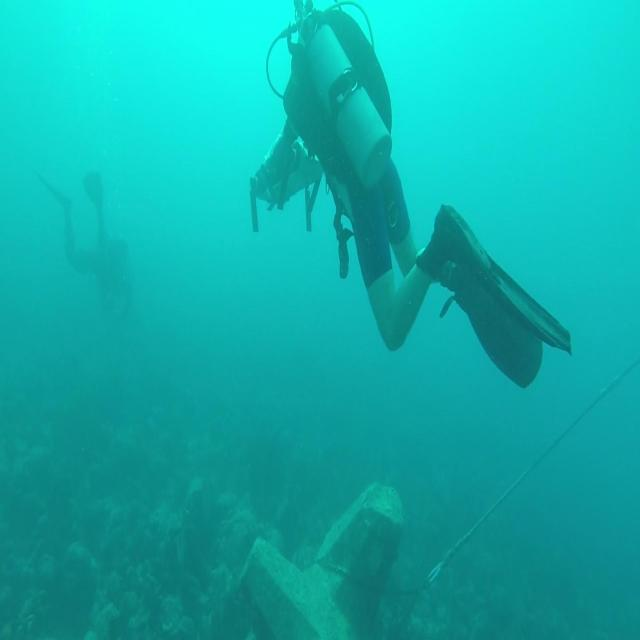human: (248, 1, 572, 389), (36, 166, 132, 319)
